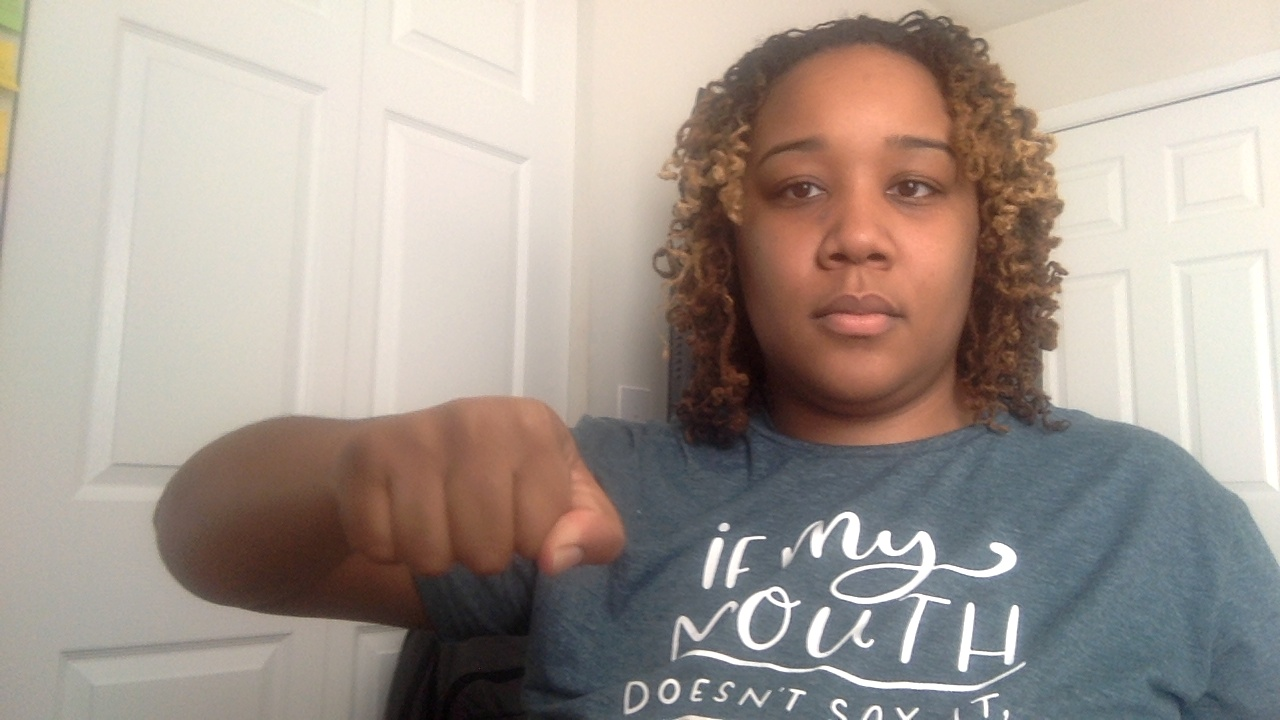yes: (286, 373, 656, 681)
